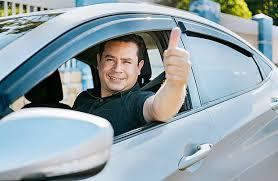Awake: (91, 36, 148, 99)
